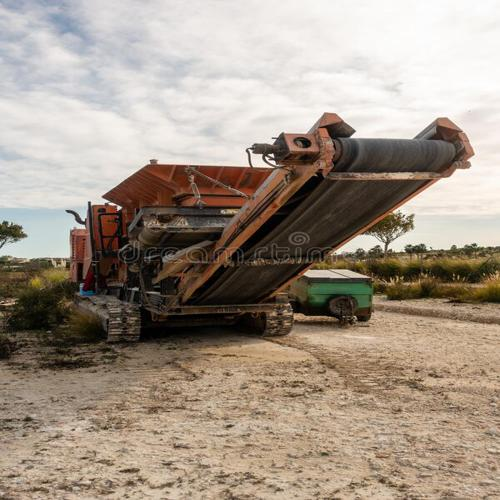con_eq: (55, 110, 466, 347)
